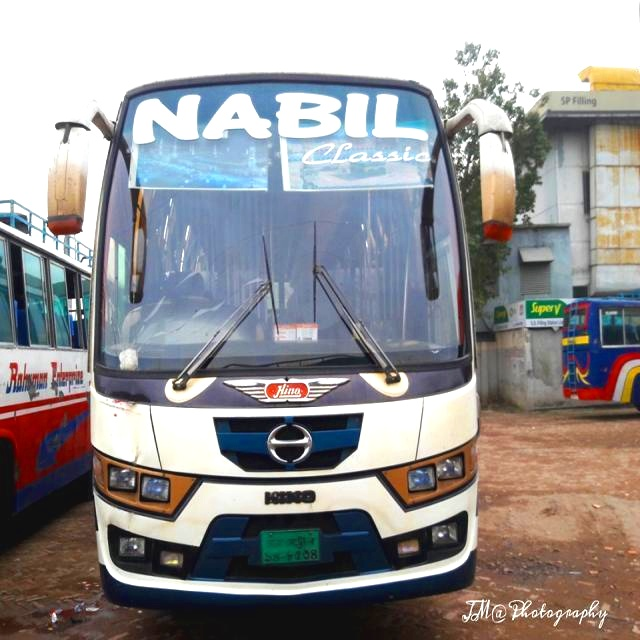bus: (27, 40, 545, 620)
